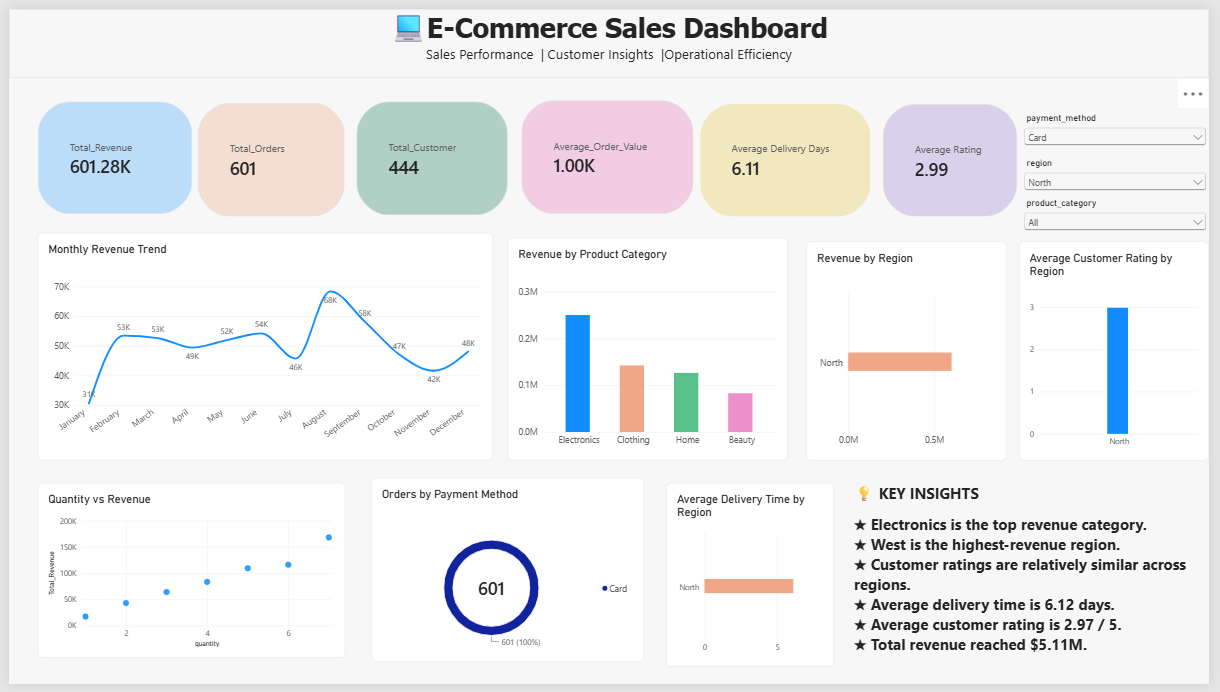

The page's visual inventory and layout, read from the dashboard file:
{"tool":"powerbi","page":{"name":"Page 1","canvas":[1920,1080],"ordinal":0},"visuals":[{"type":"cardVisual","fields":{"Data":["ecommerce_sales_cleaned.Total_Revenue"]},"box":[45,147.5,247.5,180],"z":0},{"type":"cardVisual","fields":{"Data":["ecommerce_sales_cleaned.Total_Orders"]},"box":[302.5,150,235,182.5],"z":1000},{"type":"cardVisual","fields":{"Data":["ecommerce_sales_cleaned.Total_Customer"]},"box":[555,147.5,242.5,182.5],"z":2000},{"type":"cardVisual","fields":{"Data":["ecommerce_sales_cleaned.Average_Order_Value"]},"box":[820,145,275,182.5],"z":3000},{"type":"cardVisual","fields":{"Data":["ecommerce_sales_cleaned.Average Rating"]},"box":[1397.5,152.5,215,180],"z":4000},{"type":"lineChart","title":"Monthly Revenue Trend","fields":{"Category":["ecommerce_sales_cleaned.month.Variation.Date Hierarchy.Month","ecommerce_sales_cleaned.month.Variation.Date Hierarchy.Day"],"Y":["ecommerce_sales_cleaned.Total_Revenue"]},"box":[46,358,728,364],"z":5000},{"type":"clusteredColumnChart","title":"Revenue by Product Category","fields":{"Category":["ecommerce_sales_cleaned.product_category"],"Y":["ecommerce_sales_cleaned.Total_Revenue"]},"box":[798,366,448,356],"z":6000},{"type":"clusteredBarChart","title":"Revenue by Region","fields":{"Category":["ecommerce_sales_cleaned.region"],"Y":["ecommerce_sales_cleaned.Total_Revenue"]},"box":[1276,372,320,350],"z":7000},{"type":"scatterChart","title":"Quantity vs Revenue","fields":{"X":["ecommerce_sales_cleaned.quantity"],"Y":["ecommerce_sales_cleaned.Total_Revenue"]},"box":[46,758,491.7,280],"z":8000},{"type":"donutChart","title":"Orders by Payment Method","fields":{"Category":["ecommerce_sales_cleaned.payment_method"],"Y":["CountNonNull(ecommerce_sales_cleaned.order_id)"]},"box":[580,750,436,294],"z":9000},{"type":"clusteredColumnChart","title":"Average Customer Rating by Region","fields":{"Category":["ecommerce_sales_cleaned.region"],"Y":["ecommerce_sales_cleaned.Average Rating"]},"box":[1616,372,304,350],"z":10000},{"type":"clusteredBarChart","title":"Average Delivery Time by Region","fields":{"Category":["ecommerce_sales_cleaned.region"],"Y":["ecommerce_sales_cleaned.Average Delivery Days"]},"box":[1052,758,268,294],"z":11000},{"type":"textbox","box":[0,0,1920,110],"z":12000},{"type":"textbox","box":[1280,1052,280,28],"z":13000},{"type":"textbox","box":[1352,758,568,294],"z":14000},{"type":"cardVisual","fields":{"Data":["ecommerce_sales_cleaned.Average Delivery Days"]},"box":[1105,152.5,272.5,180],"z":15000},{"type":"slicer","fields":{"Values":["ecommerce_sales_cleaned.product_category"]},"box":[1620,302.5,300,70],"z":15001},{"type":"slicer","fields":{"Values":["ecommerce_sales_cleaned.region"]},"box":[1620,237.5,300,60],"z":15002},{"type":"slicer","fields":{"Values":["ecommerce_sales_cleaned.payment_method"]},"box":[1620,165,300,75],"z":15003}]}

Visuals, with their boxes in screenshot pixels (x1, y1, x2, y2), scaled from the page's 1920x1080 canvas onto the 1220x692 screenshot:
cardVisual - ecommerce_sales_cleaned.Total_Revenue: rect(29, 95, 186, 210)
cardVisual - ecommerce_sales_cleaned.Total_Orders: rect(192, 96, 342, 213)
cardVisual - ecommerce_sales_cleaned.Total_Customer: rect(353, 95, 507, 211)
cardVisual - ecommerce_sales_cleaned.Average_Order_Value: rect(521, 93, 696, 210)
cardVisual - ecommerce_sales_cleaned.Average Rating: rect(888, 98, 1025, 213)
"Monthly Revenue Trend" lineChart: rect(29, 229, 492, 463)
"Revenue by Product Category" clusteredColumnChart: rect(507, 235, 792, 463)
"Revenue by Region" clusteredBarChart: rect(811, 238, 1014, 463)
"Quantity vs Revenue" scatterChart: rect(29, 486, 342, 665)
"Orders by Payment Method" donutChart: rect(369, 481, 646, 669)
"Average Customer Rating by Region" clusteredColumnChart: rect(1027, 238, 1219, 463)
"Average Delivery Time by Region" clusteredBarChart: rect(668, 486, 839, 674)
textbox: rect(0, 0, 1219, 70)
textbox: rect(813, 674, 991, 691)
textbox: rect(859, 486, 1219, 674)
cardVisual - ecommerce_sales_cleaned.Average Delivery Days: rect(702, 98, 875, 213)
slicer - ecommerce_sales_cleaned.product_category: rect(1029, 194, 1219, 239)
slicer - ecommerce_sales_cleaned.region: rect(1029, 152, 1219, 191)
slicer - ecommerce_sales_cleaned.payment_method: rect(1029, 106, 1219, 154)
